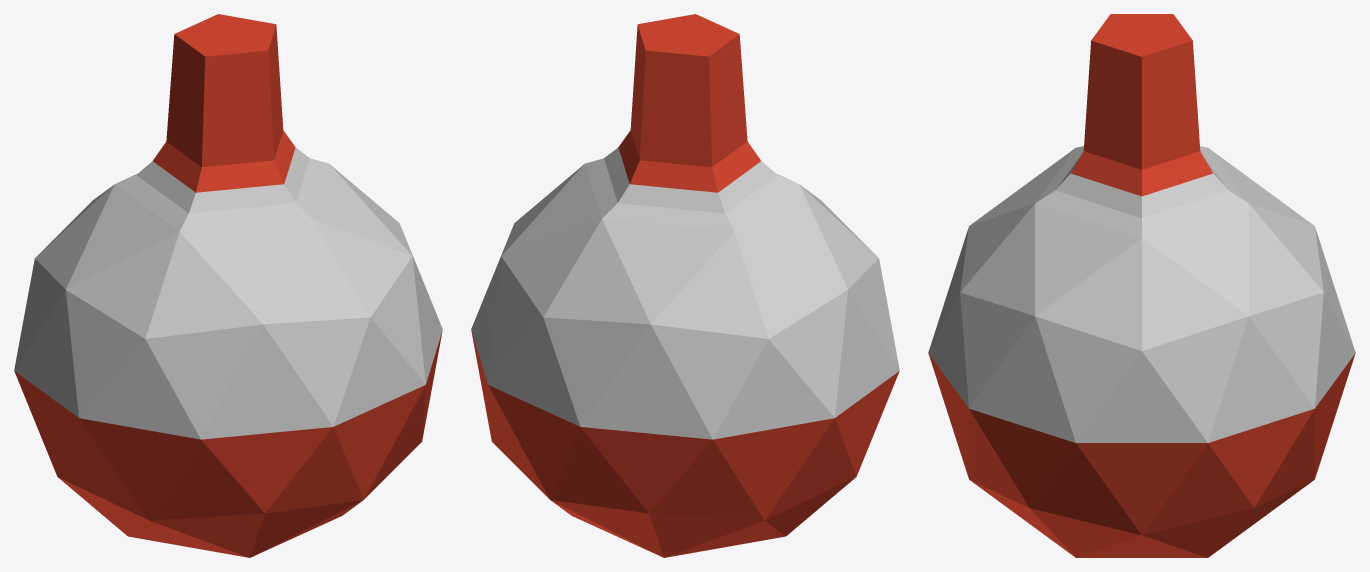
The model's file is Bobber.fbx.
3 renders of one model, left to right at view 1: azimuth 30°, elevation 25°; view 2: azimuth 150°, elevation 25°; view 3: azimuth 270°, elevation 25°, orthographic.
Parts seen in each view (by area): view 1: Bobber; view 2: Bobber; view 3: Bobber.
Part boxes in pixels (bbox=[...]): Bobber: bbox=[14, 14, 442, 557]; Bobber: bbox=[471, 14, 899, 557]; Bobber: bbox=[928, 14, 1355, 557].
Size of the model in its own units: 0.2 by 0.265 by 0.2.
